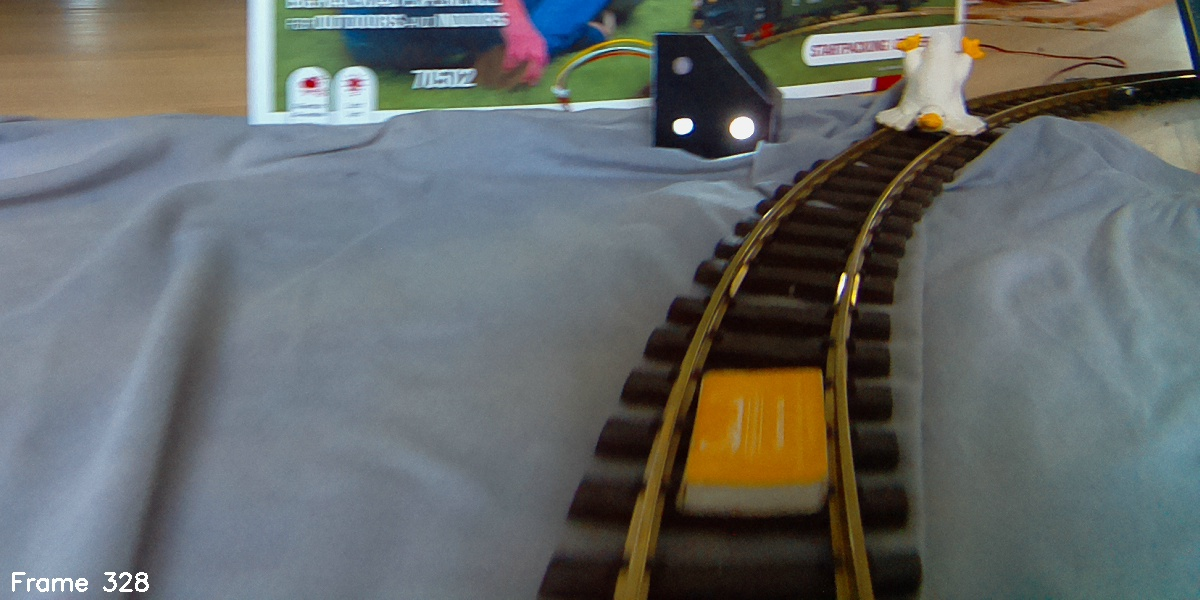Ente: (876, 32, 992, 140)
Halt: (651, 29, 784, 153)
